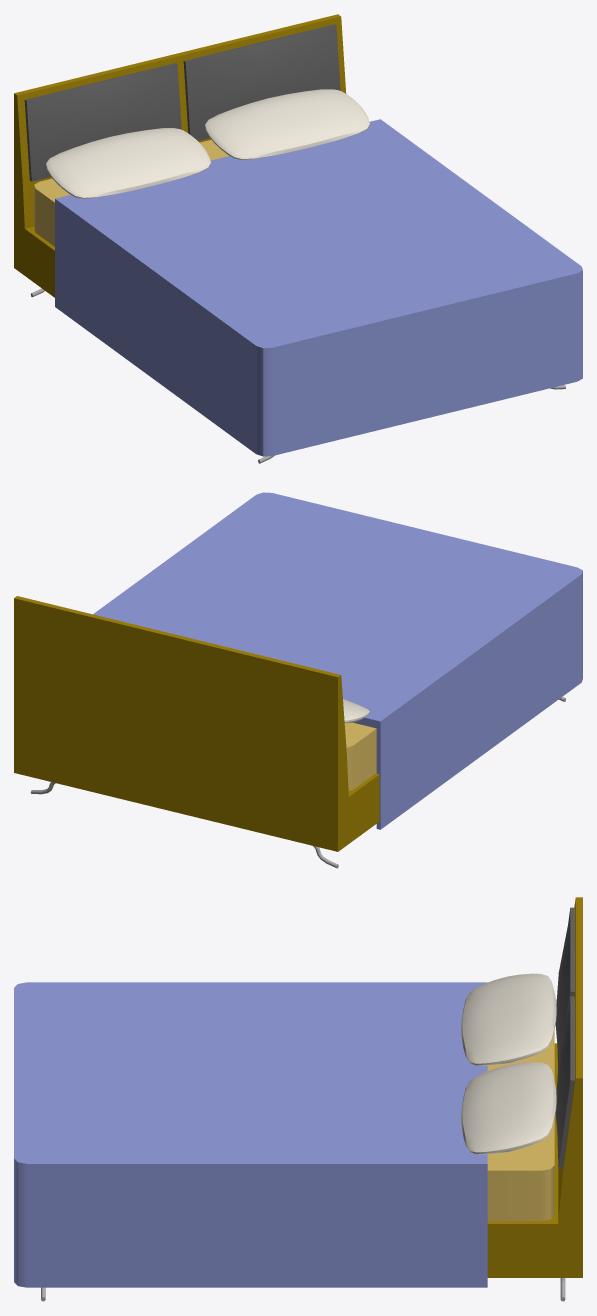
The model's file is Bed.fbx.
The picture shows the model from 3 angles, top to bottom: view 1: azimuth 30°, elevation 25°; view 2: azimuth 150°, elevation 25°; view 3: azimuth 270°, elevation 25°; orthographic projection. The views are drawn at different scales.
Visible parts, largest first — view 1: Bed, Pillow_L, Pillow_R; view 2: Bed; view 3: Bed, Pillow_R, Pillow_L.
Boxes of the visible parts, x1,y1,x2,y2 form: Bed: (14, 14, 582, 463); Pillow_L: (46, 128, 210, 198); Pillow_R: (205, 89, 369, 160); Bed: (14, 492, 582, 868); Bed: (14, 897, 582, 1301); Pillow_R: (461, 1062, 556, 1154); Pillow_L: (461, 973, 556, 1065).
Bounding box in the file's own units: 181 × 106 × 239.
